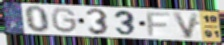0: (21, 5, 52, 34)
3: (114, 9, 141, 37), (85, 8, 110, 36)
F: (145, 12, 172, 37)
G: (50, 7, 79, 35)
V: (171, 11, 200, 40)
